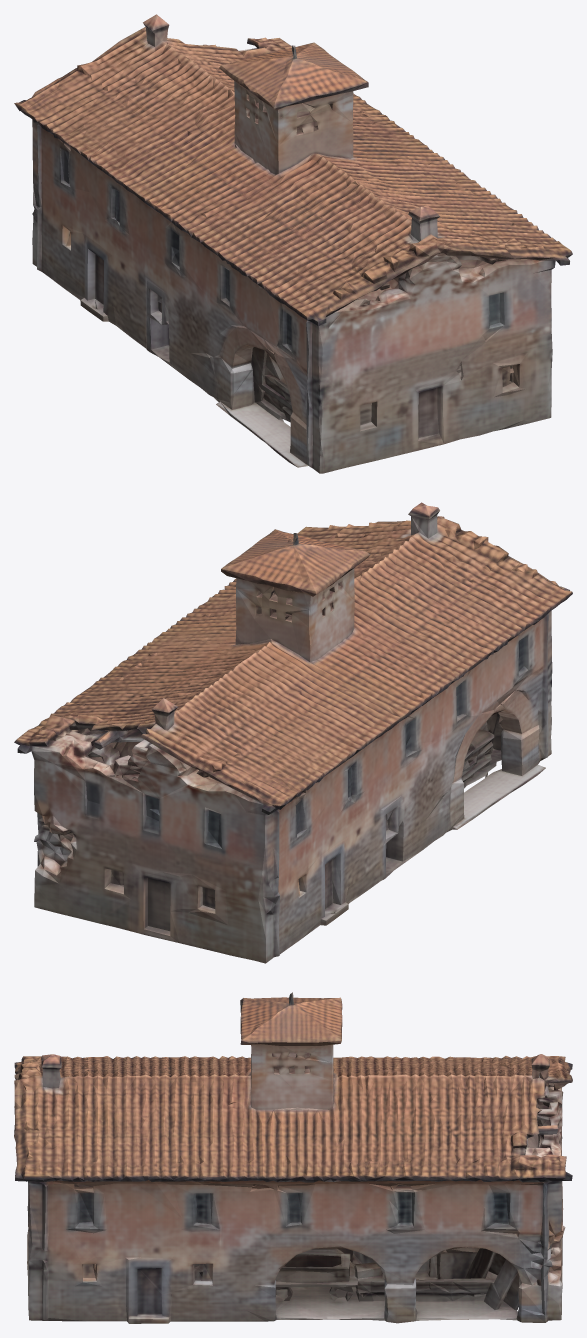
The model's file is it_farmhouse.obj.
3 views of the same model, one above another, from view 1: azimuth 30°, elevation 25°; view 2: azimuth 150°, elevation 25°; view 3: azimuth 270°, elevation 25° (orthographic). The views are drawn at different scales.
Visible parts, largest first — view 1: it_farmhouse; view 2: it_farmhouse; view 3: it_farmhouse.
Part boxes in pixels (left/top/right/bottom): it_farmhouse: left=14, top=14, right=572, bottom=473; it_farmhouse: left=14, top=502, right=572, bottom=963; it_farmhouse: left=14, top=992, right=572, bottom=1323.
Size of the model in its own units: 7.68 by 8.42 by 15.
1 material, 1 textured.
